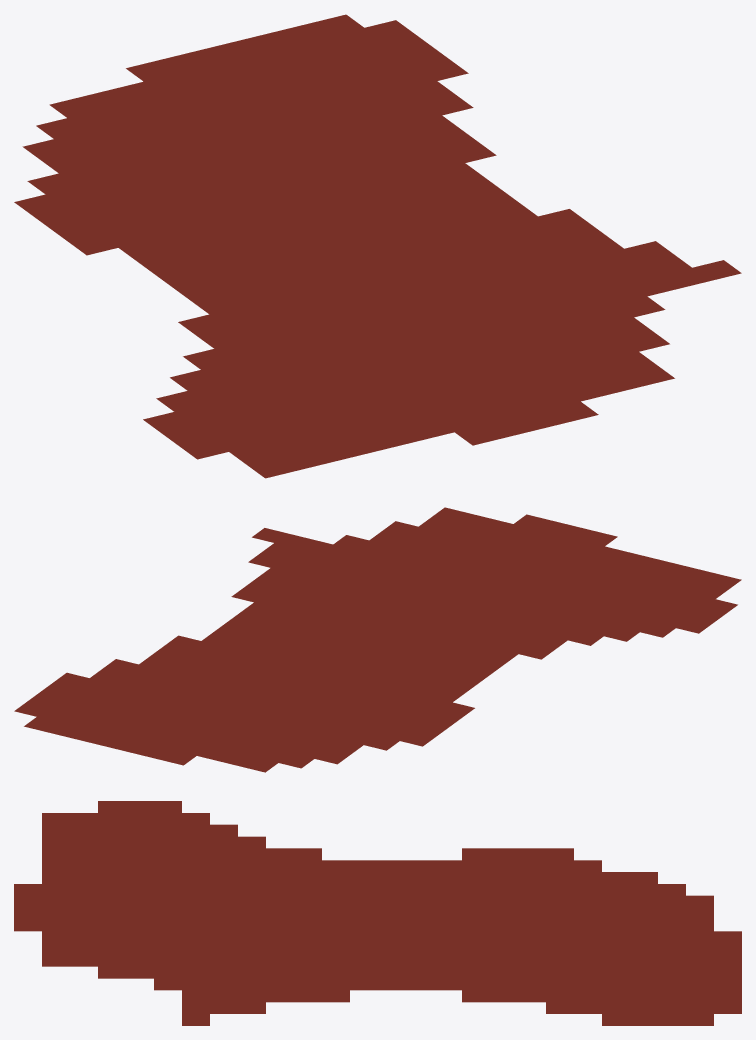
File: Krew.fbx
3 views of the same model, one above another, from view 1: azimuth 30°, elevation 25°; view 2: azimuth 150°, elevation 25°; view 3: azimuth 270°, elevation 25° (orthographic). The views are drawn at different scales.
Parts seen in each view (by area): view 1: Plane.004; view 2: Plane.004; view 3: Plane.004.
Part boxes in pixels (x1,y1,x2,y2): Plane.004: (14, 14, 741, 478); Plane.004: (14, 507, 741, 772); Plane.004: (14, 801, 741, 1025).
Bounding box in the file's own units: 298 × 6.64e-05 × 407.
